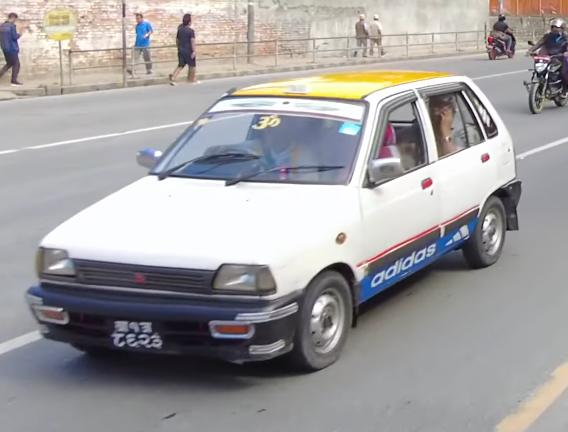bike: (522, 47, 568, 119)
scooter: (486, 28, 519, 62)
taxi: (25, 62, 530, 381)
